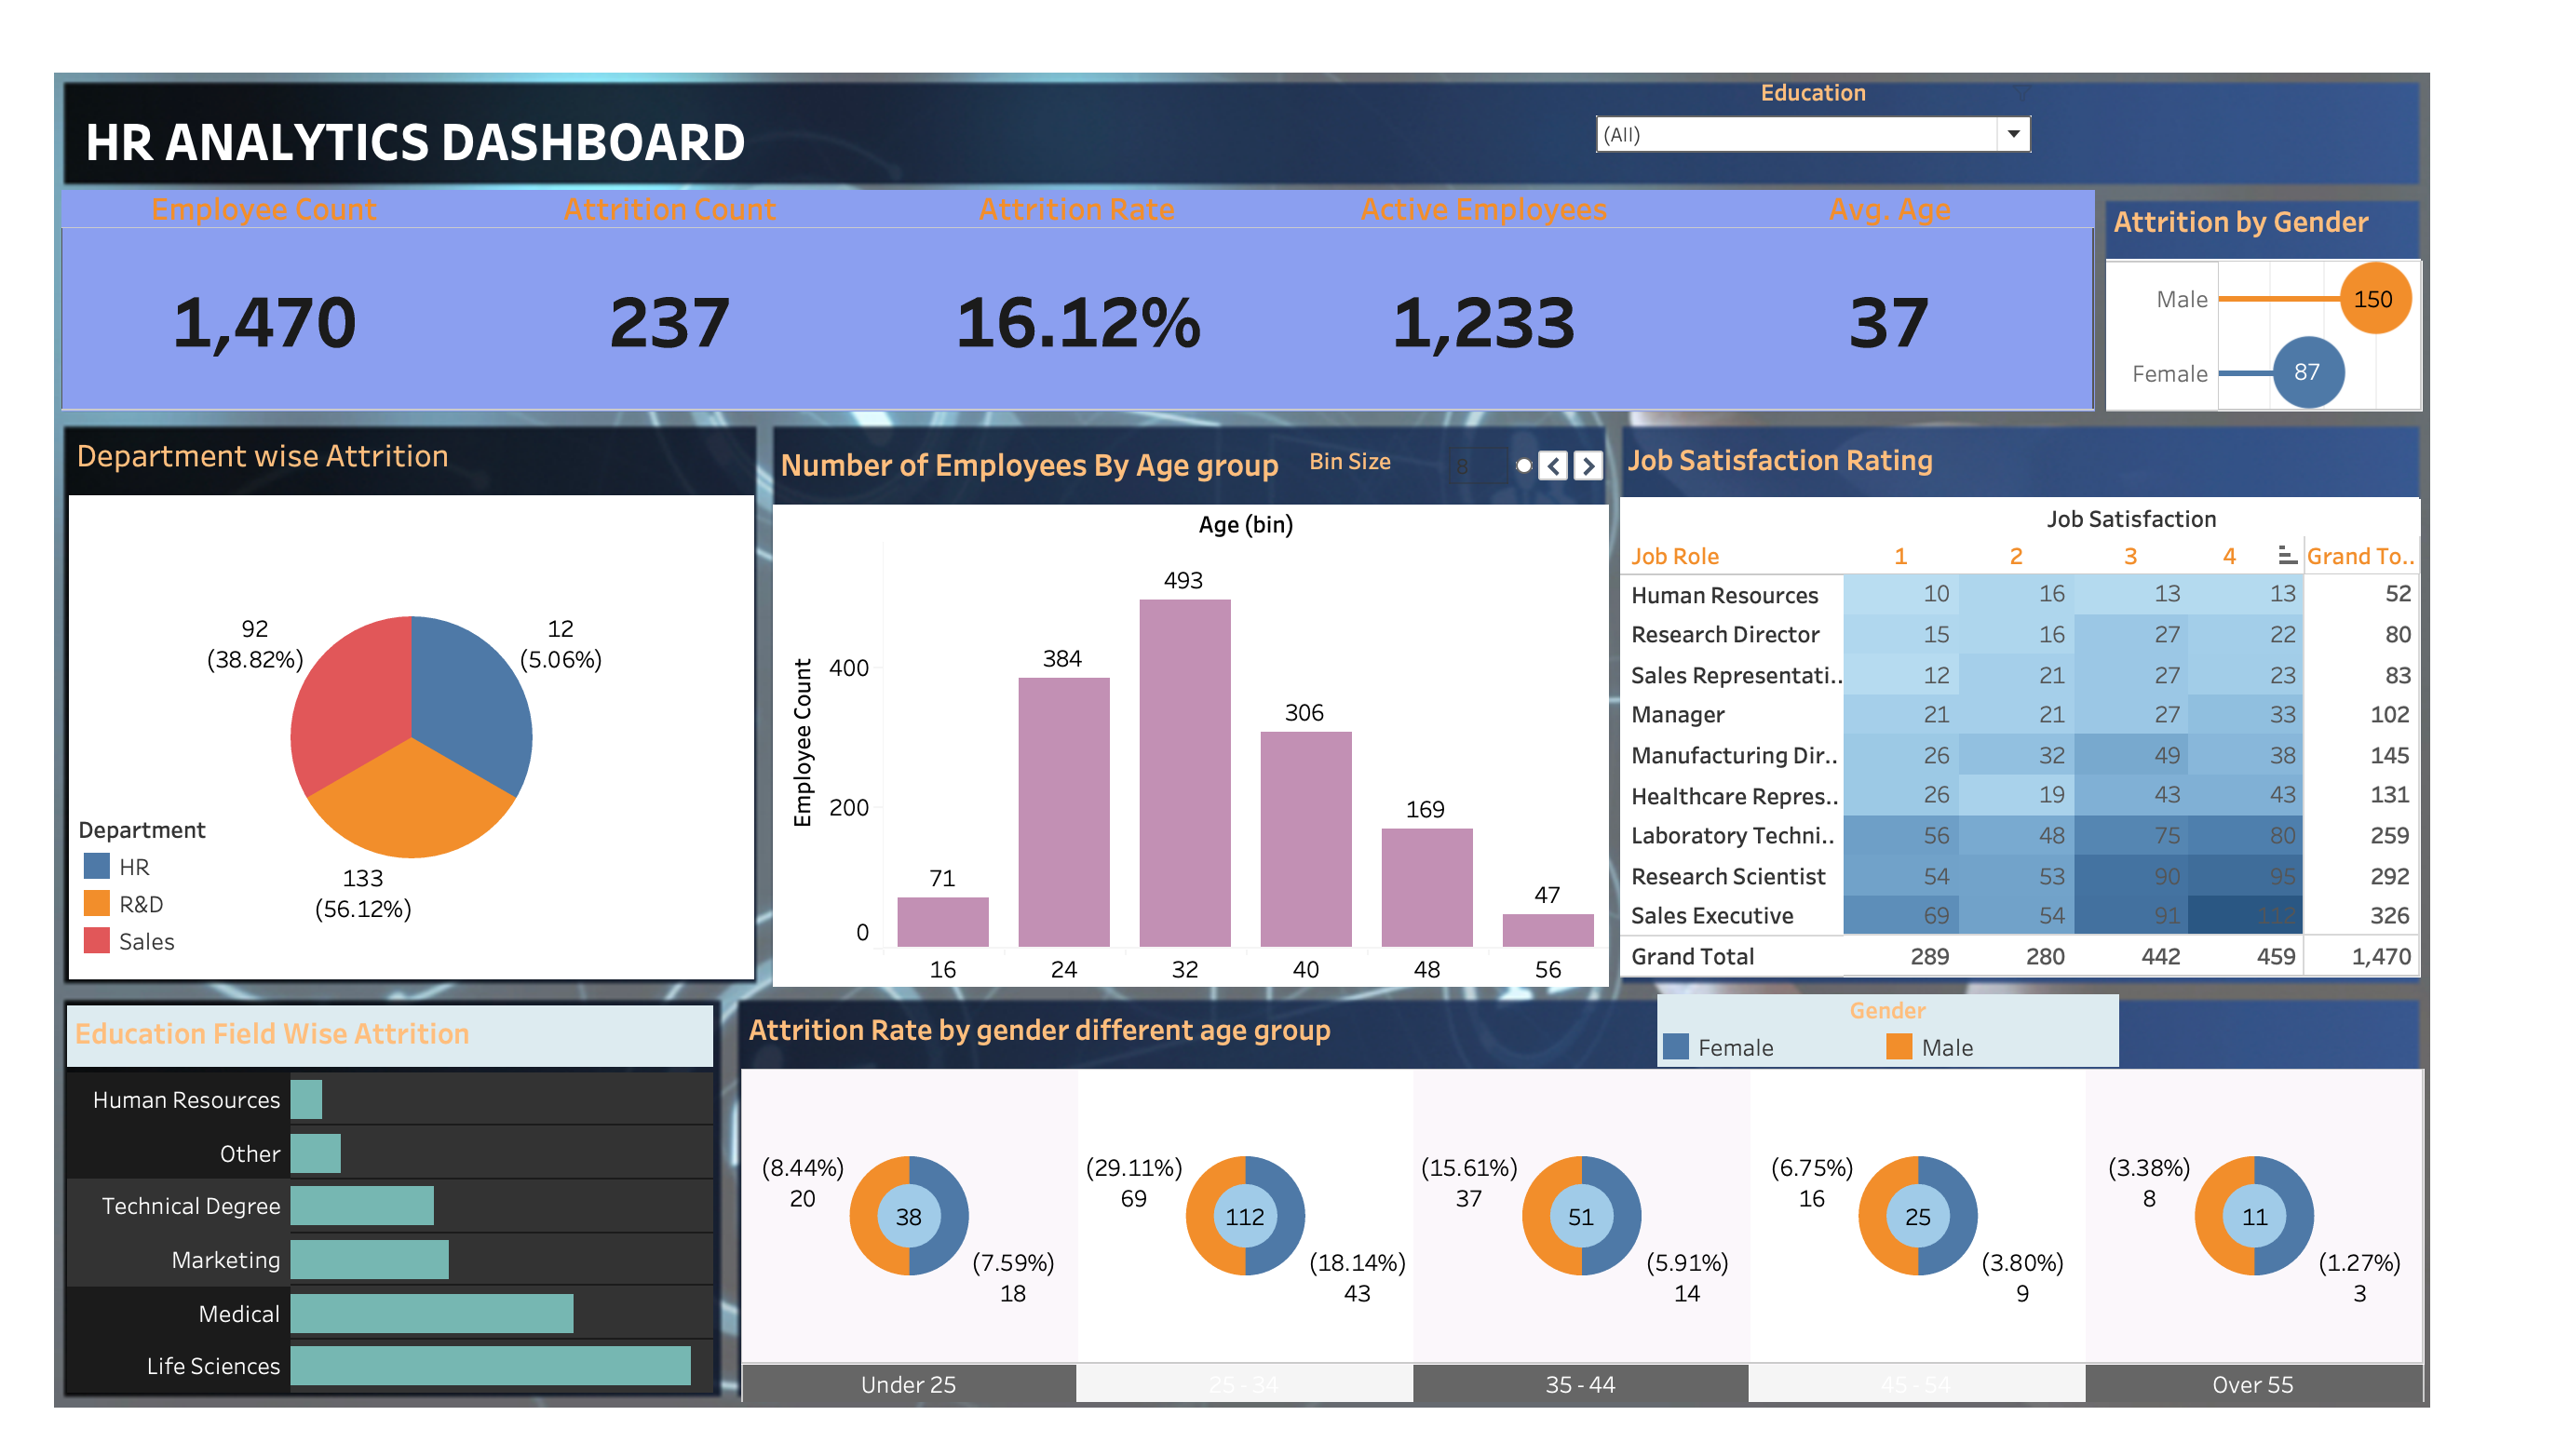

The page's visual inventory and layout, read from the dashboard file:
{"tool":"tableau","page":{"name":"Dashboard 1","canvas":[1300,800],"ordinal":0},"visuals":[{"type":"image","param":"/Users/kotesh/Downloads/HR background/HR background.001.jpeg","box":[8,8,1284,784]},{"type":"filter","title":"Attrition Rate by gender different age group","param":"[federated.0og327i0b5fld7170k05d0fxv4f3].[none:Education:nk]","box":[837,43,240,59]},{"type":"text","box":[26,56,372,42]},{"type":"worksheet","title":"KPI","mark":"Text","box":[16,104,1092,119]},{"type":"worksheet","title":"Attrition by Gender","mark":"Circle","rows":["Gender"],"cols":["Calculation_4807733397160640512","Calculation_4807733397160640512"],"box":[1114,106,170,117]},{"type":"worksheet","title":"Department wise Attrition","mark":"Pie","box":[20,231,368,297]},{"type":"worksheet","title":"Job Satisfaction Rating","mark":"Square","rows":["Job Role"],"cols":["Job Satisfaction"],"box":[853,234,430,293]},{"type":"worksheet","title":"Number of Employees By Age group","mark":"Automatic","rows":["Employee Count"],"cols":["Age (bin)"],"box":[398,236,449,296]},{"type":"parameter","param":"[Parameters].[Parameter 1]","box":[686,239,161,30]},{"type":"legend","title":"Department wise Attrition","param":"[federated.0og327i0b5fld7170k05d0fxv4f3].[none:Department:nk]","box":[25,439,119,76]},{"type":"legend","title":"Attrition Rate by gender different age group","param":"[federated.0og327i0b5fld7170k05d0fxv4f3].[none:Gender:nk]","box":[873,536,248,39]},{"type":"worksheet","title":"Attrition Rate by gender different age group","mark":"Pie","rows":["Calculation_1940207071987163152","Calculation_1940207071987257363"],"cols":["CF_age band"],"box":[381,540,904,216]},{"type":"worksheet","title":"Education Field Wise Attrition ","mark":"Automatic","rows":["Education Field"],"cols":["Calculation_4807733397160640512"],"box":[19,542,347,208]}]}

Visuals, with their boxes in screenshot pixels (x1, y1, x2, y2):
image: 42 2 2434 1455
"Attrition Rate by gender different age group" filter: 1587 67 2034 177
text: 75 91 768 169
"KPI" worksheet (Text marks): 57 181 2091 402
"Attrition by Gender" worksheet (Circle marks): 2102 184 2419 402
"Department wise Attrition" worksheet (Pie marks): 64 417 750 970
"Job Satisfaction Rating" worksheet (Square marks): 1616 423 2417 968
"Number of Employees By Age group" worksheet: 768 426 1605 977
parameter: 1304 432 1605 488
"Department wise Attrition" legend: 74 804 295 946
"Attrition Rate by gender different age group" legend: 1654 985 2115 1058
"Attrition Rate by gender different age group" worksheet (Pie marks): 737 992 2421 1395
"Education Field Wise Attrition " worksheet: 62 996 709 1383
